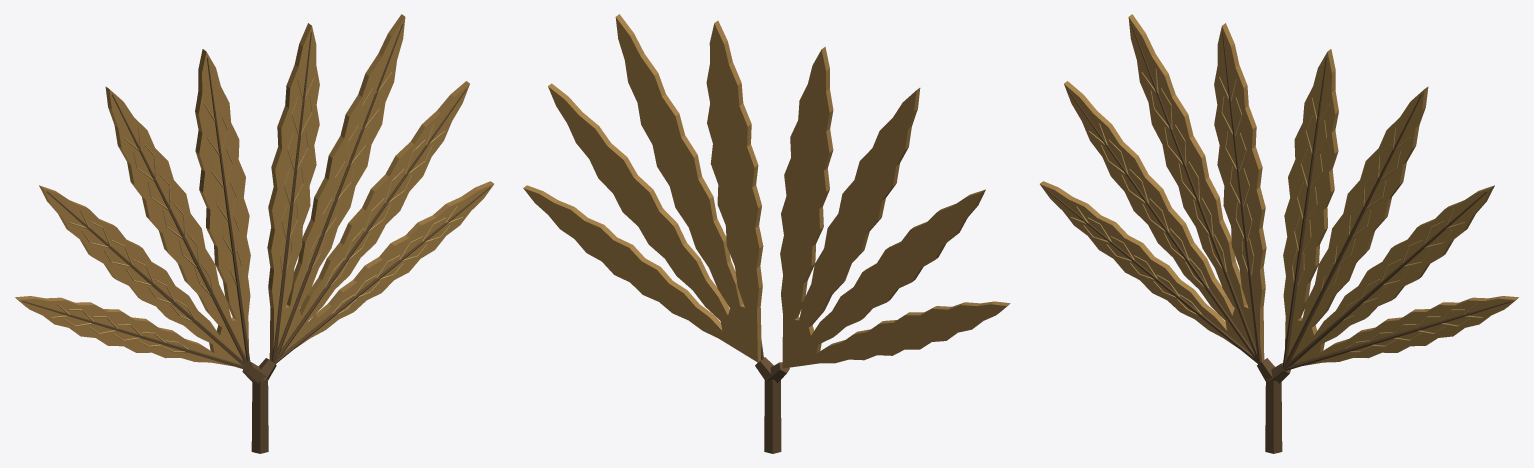
File: dictyophyllum.glb
3 views of the same model, side by side, from view 1: azimuth 30°, elevation 25°; view 2: azimuth 150°, elevation 25°; view 3: azimuth 330°, elevation 25° (orthographic).
Parts seen in each view (by area): view 1: bifurcate-eight-lobate-rays-fossil-frond; view 2: bifurcate-eight-lobate-rays-fossil-frond; view 3: bifurcate-eight-lobate-rays-fossil-frond.
Part boxes in pixels (<box>): bifurcate-eight-lobate-rays-fossil-frond: <box>15,14,493,453</box>; bifurcate-eight-lobate-rays-fossil-frond: <box>523,14,1010,453</box>; bifurcate-eight-lobate-rays-fossil-frond: <box>1040,14,1518,453</box>.
Size of the model in its own units: 0.0789 by 0.065 by 0.00349.
